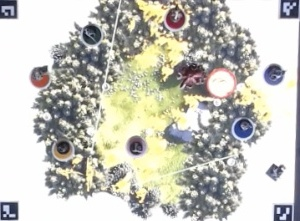blue: (232, 114, 255, 143)
green: (80, 21, 103, 46)
orange: (29, 64, 52, 89)
pink: (126, 132, 149, 159)
red: (161, 5, 189, 31)
violet: (261, 62, 287, 89)
yellow: (52, 135, 78, 161)
